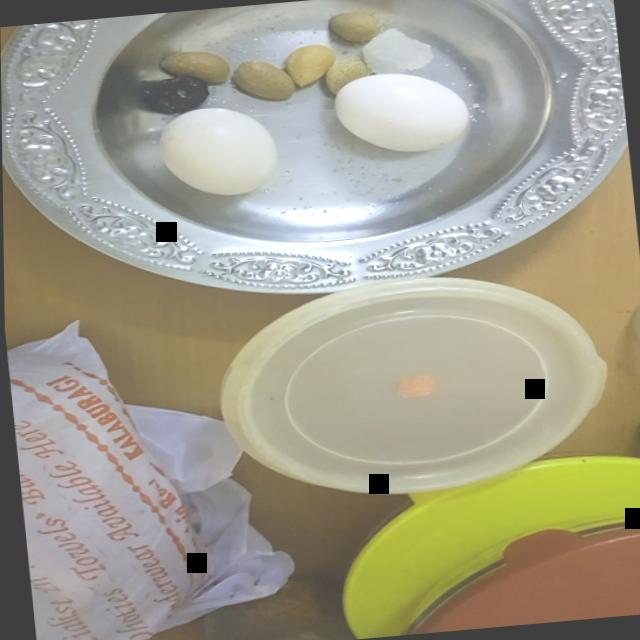eggs: (326, 56, 478, 157), (149, 96, 284, 208)
